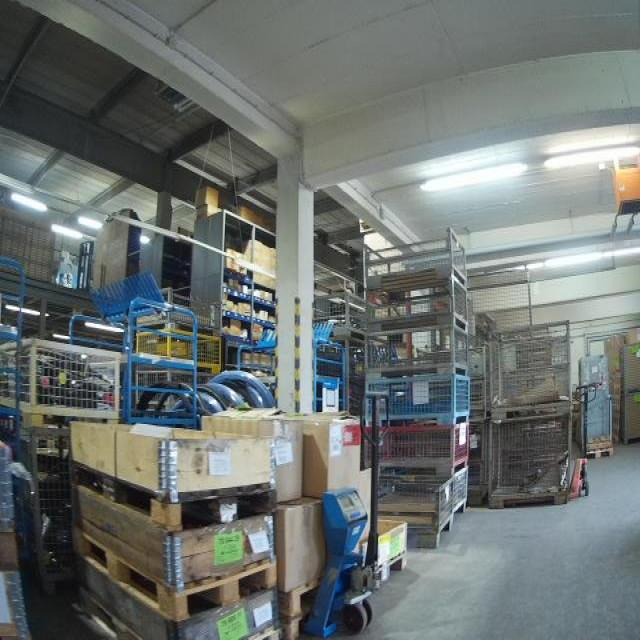pallet: (67, 518, 282, 627), (64, 447, 282, 533), (266, 564, 361, 615), (261, 604, 325, 640), (368, 549, 408, 597), (582, 446, 616, 461)
pallet_truck: (304, 390, 392, 636), (568, 382, 599, 503)
stillage: (1, 342, 119, 432), (17, 431, 71, 599), (486, 411, 572, 510), (488, 320, 576, 411), (361, 471, 453, 547), (361, 272, 470, 327), (364, 418, 469, 471), (363, 234, 470, 285), (366, 327, 470, 376), (363, 375, 475, 420), (132, 330, 222, 375), (133, 285, 221, 331), (621, 394, 640, 449), (619, 347, 640, 393), (452, 462, 467, 524)
